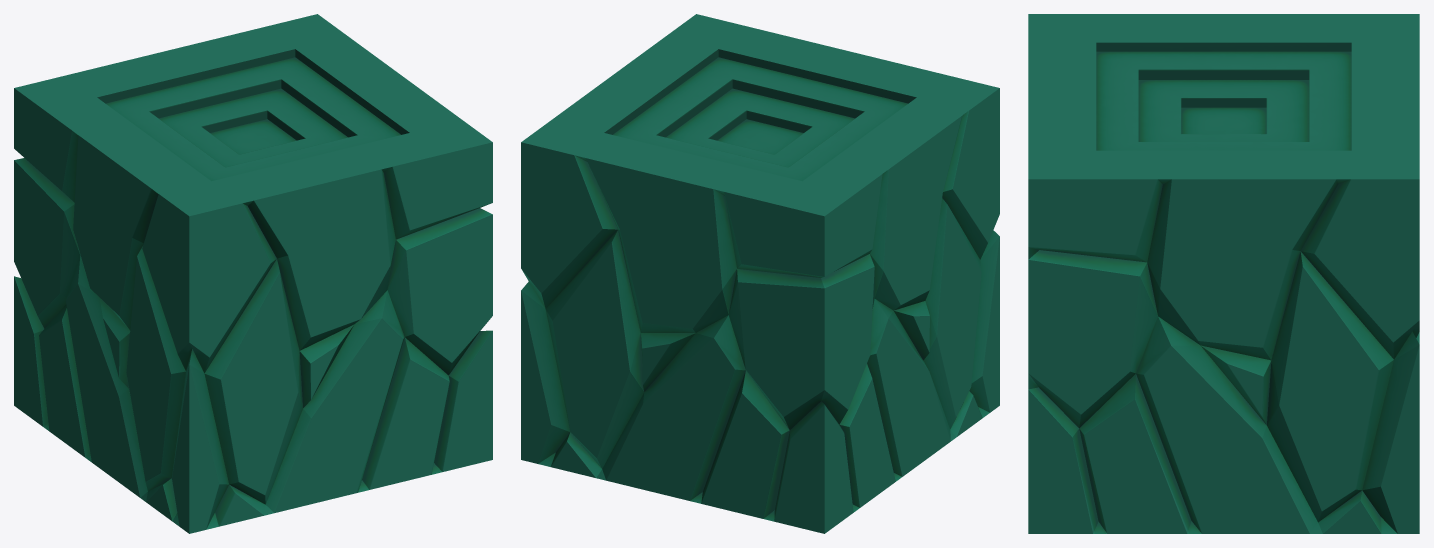
3 renders of one model, left to right at view 1: azimuth 30°, elevation 25°; view 2: azimuth 150°, elevation 25°; view 3: azimuth 270°, elevation 25°, orthographic. The views are drawn at different scales.
Visible parts, largest first — view 1: cube07_geo; view 2: cube07_geo; view 3: cube07_geo.
Part boxes in pixels (<box>): cube07_geo: <box>14,14,492,533</box>; cube07_geo: <box>521,14,999,533</box>; cube07_geo: <box>1028,14,1419,533</box>.
Bounding box in the file's own units: 100 × 100 × 100.
1 material, 1 textured.
